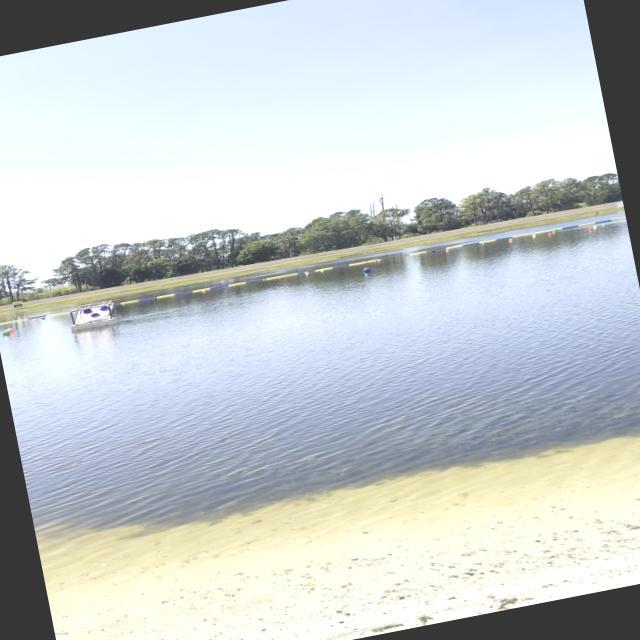buoy: (1, 329, 12, 337), (7, 325, 16, 334), (481, 240, 488, 246), (602, 222, 608, 228), (378, 258, 382, 264), (552, 230, 558, 234), (588, 227, 594, 230), (548, 232, 552, 236)
